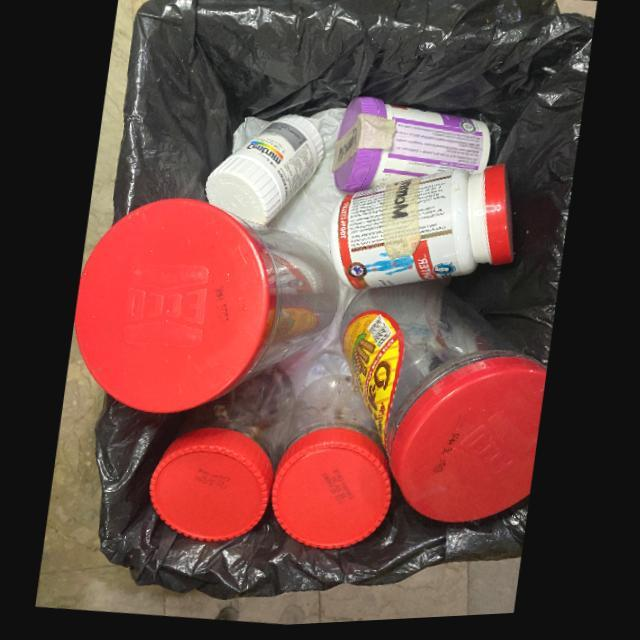plastic: (74, 198, 340, 414), (340, 284, 548, 527), (150, 370, 296, 542), (329, 168, 514, 294), (272, 377, 392, 552), (331, 99, 490, 196), (204, 116, 323, 228)
